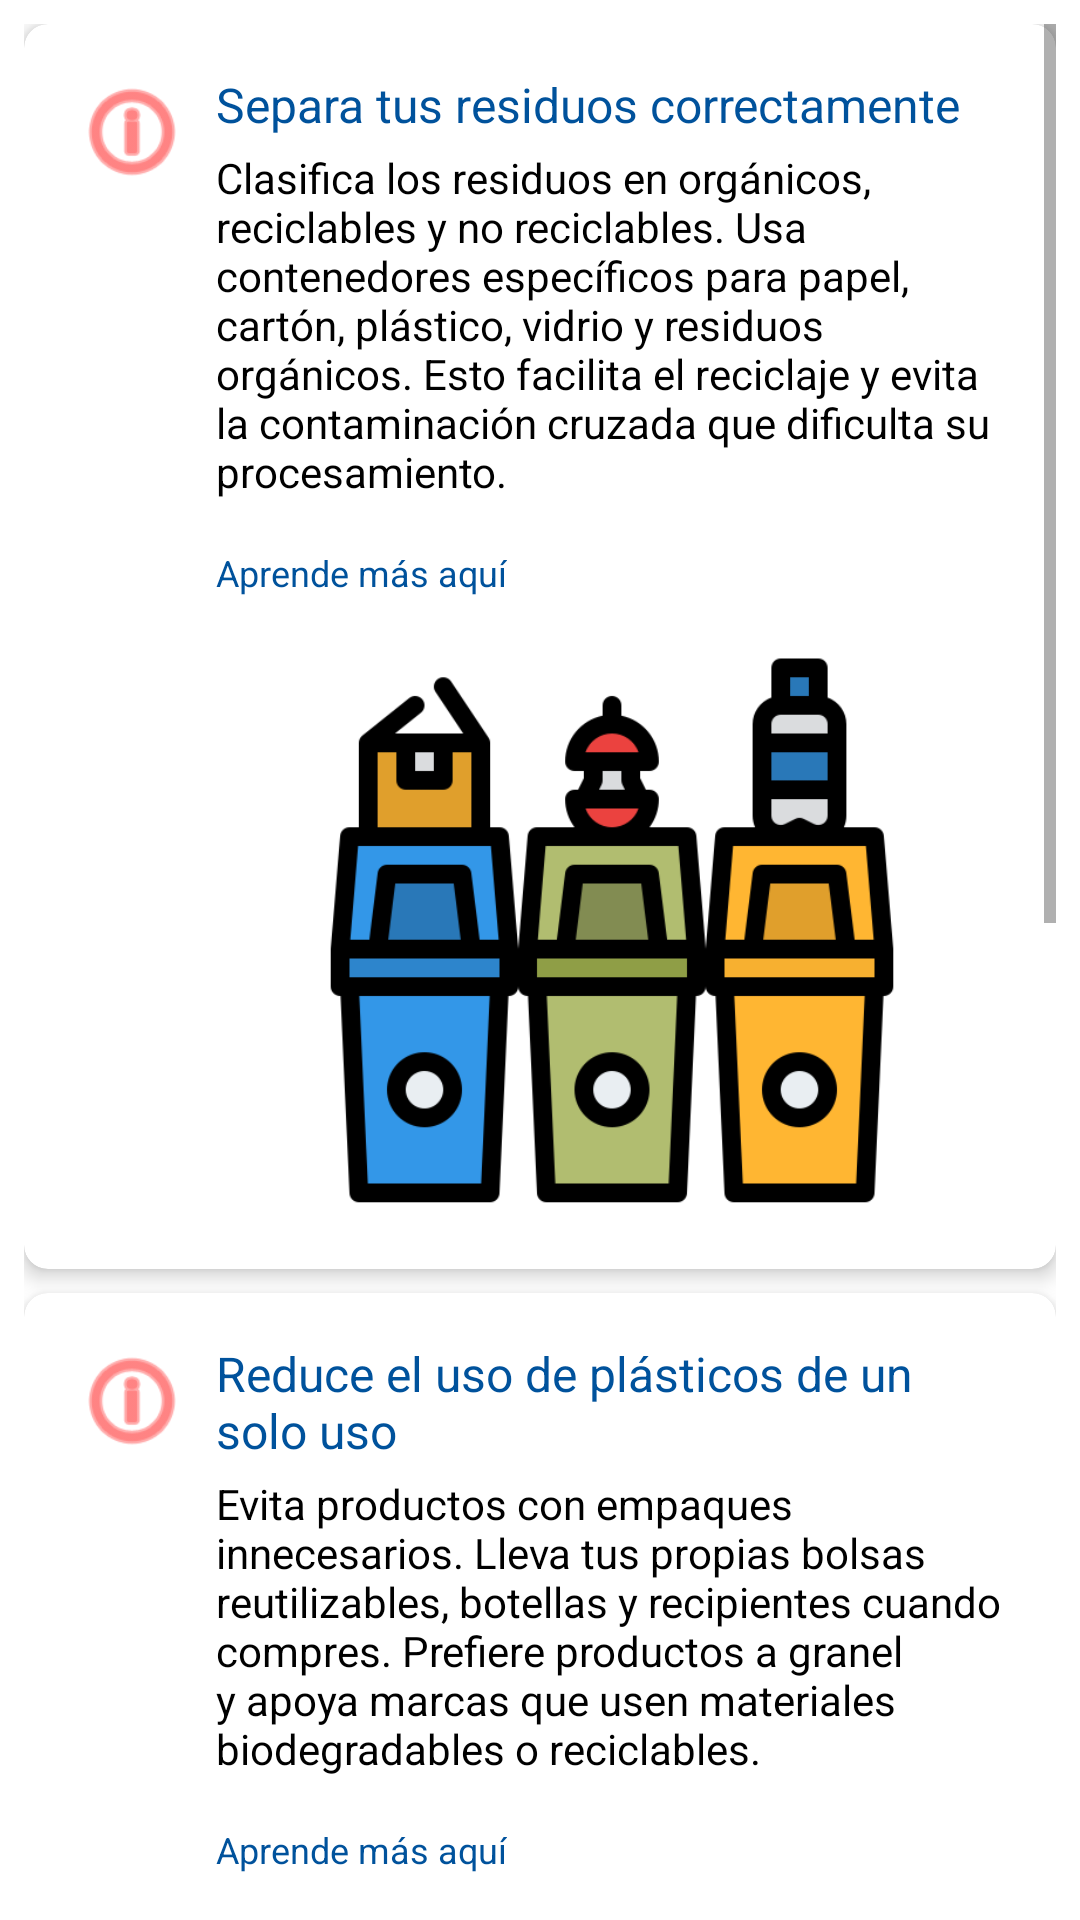

Icons on this 1080x1920 Android screen, each with the point to tap as point (x, y):
info details: point (132, 132), point (132, 1401)
